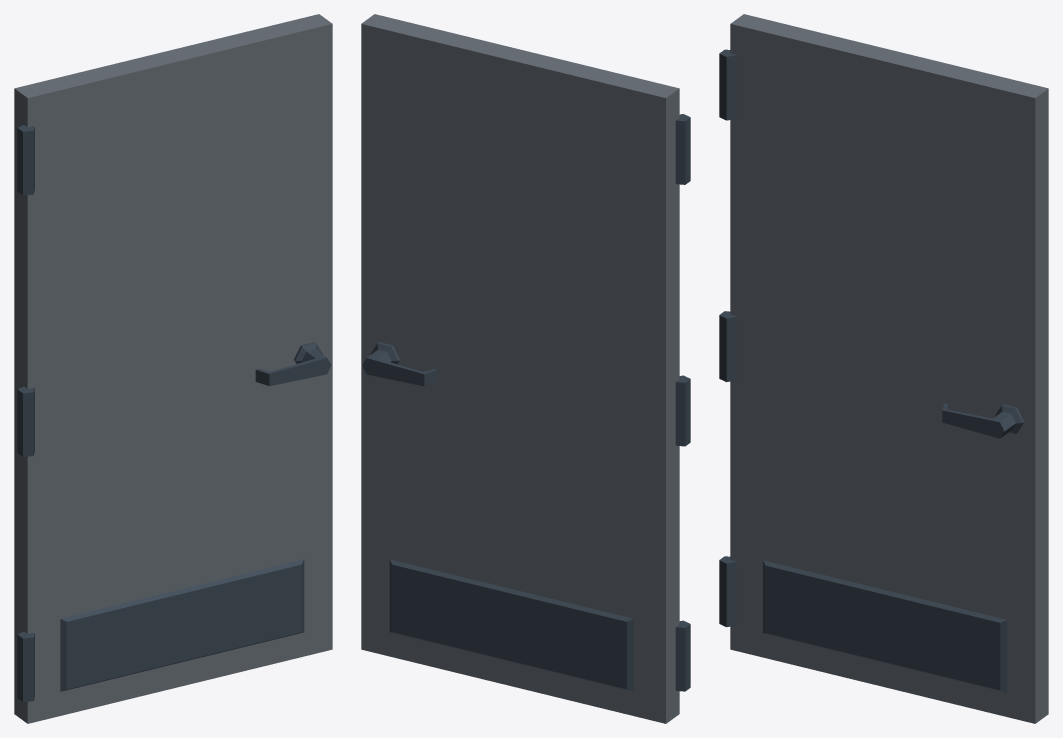
Rendered from Door_01.FBX.
3 views of the same model, side by side, from view 1: azimuth 30°, elevation 25°; view 2: azimuth 150°, elevation 25°; view 3: azimuth 330°, elevation 25° (orthographic).
Visible parts, largest first — view 1: Door_01; view 2: Door_01; view 3: Door_01.
Part boxes in pixels (<box>): Door_01: <box>14,14,332,723</box>; Door_01: <box>361,14,690,723</box>; Door_01: <box>719,14,1048,723</box>.
Size of the model in its own units: 103 by 197 by 24.73.
